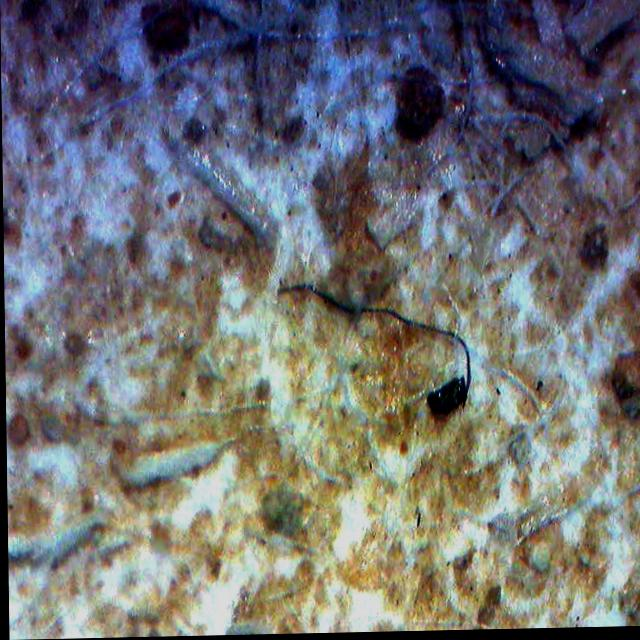microplastic: (277, 283, 469, 409)
